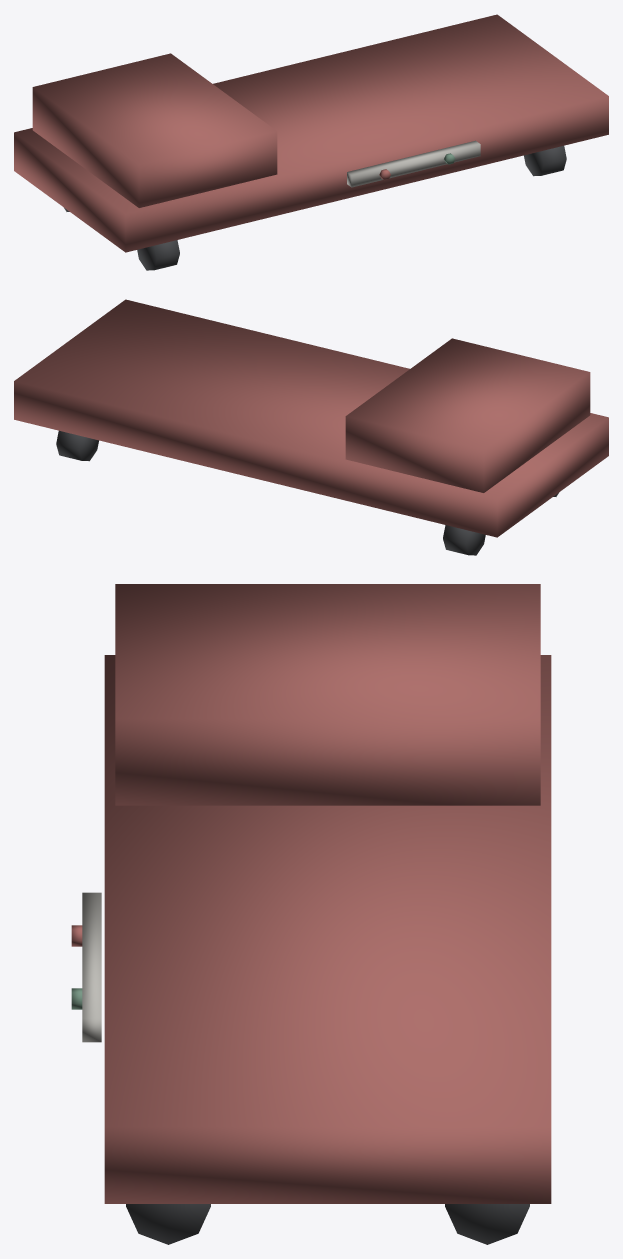
The model's file is mechanic_creeper.glb.
3 renders of one model, top to bottom at view 1: azimuth 30°, elevation 25°; view 2: azimuth 150°, elevation 25°; view 3: azimuth 270°, elevation 25°, orthographic. The views are drawn at different scales.
Visible parts, largest first — view 1: world; view 2: world; view 3: world.
Part boxes in pixels (x1,y1,x2,y2): world: (14, 14, 608, 270); world: (14, 299, 608, 555); world: (71, 584, 551, 1244).
Bounding box in the file's own units: 1.05 × 0.25 × 0.451.
